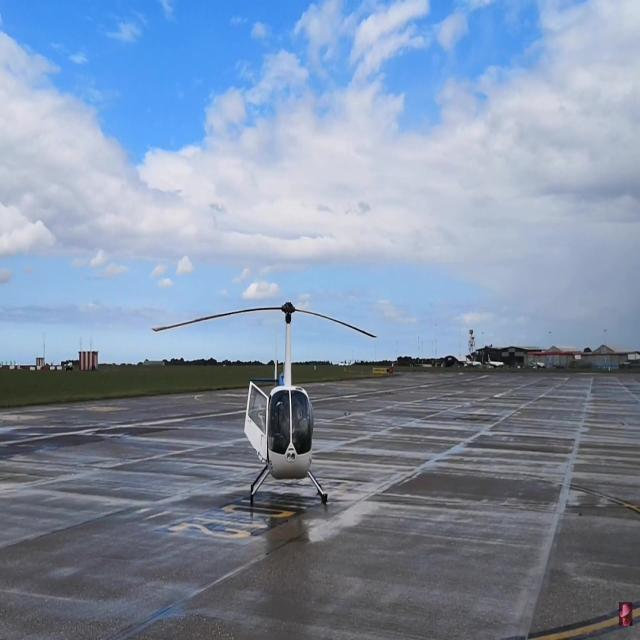CIV_HELO: (242, 300, 329, 508)
